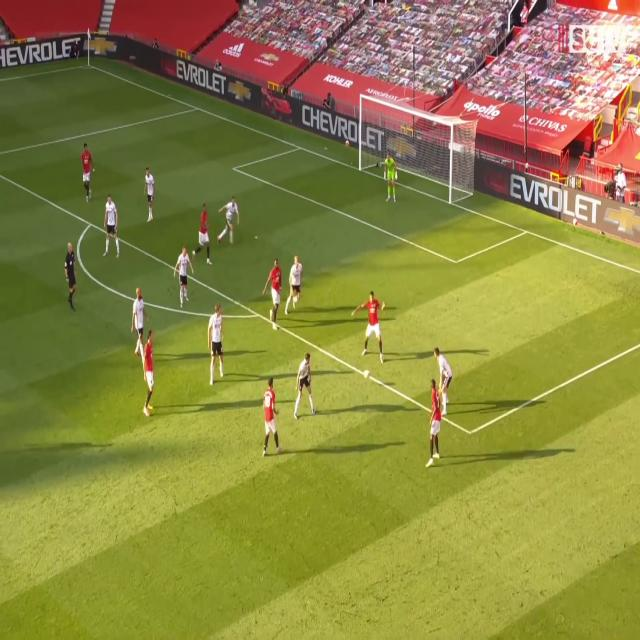Ball: (362, 366, 372, 383)
GoalKeeper: (384, 152, 398, 203)
TEAM 1: (294, 351, 318, 418), (433, 344, 453, 413), (209, 306, 226, 376), (217, 196, 240, 247), (177, 246, 196, 306), (132, 289, 149, 355), (103, 195, 120, 259), (288, 255, 305, 312), (144, 168, 154, 225)
TEAM 2: (352, 289, 388, 358), (261, 258, 285, 328), (260, 380, 281, 458), (140, 332, 158, 418), (427, 377, 443, 468), (198, 200, 214, 272), (82, 142, 95, 202)
